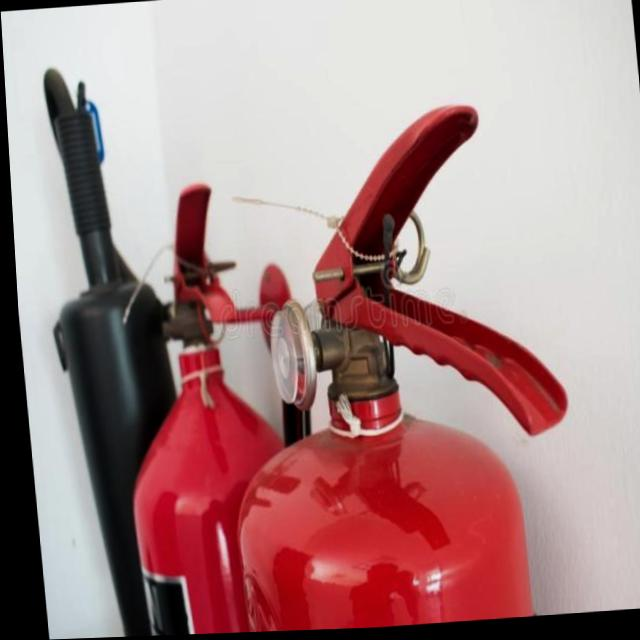FireExtinguisher: (192, 92, 580, 635), (20, 43, 311, 639)
